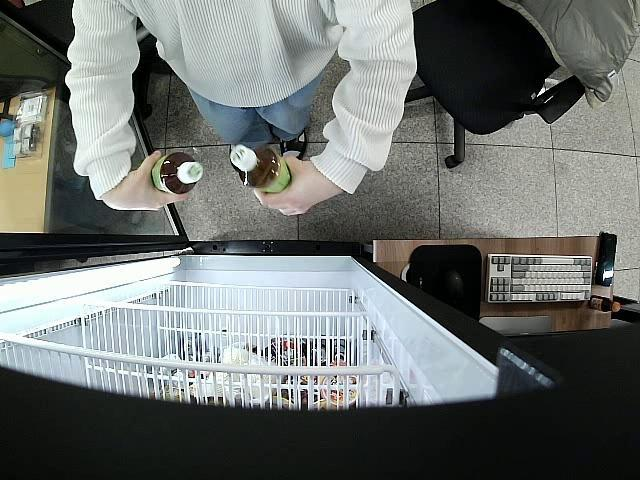19_17cha: (231, 144, 291, 193), (150, 150, 203, 194)
